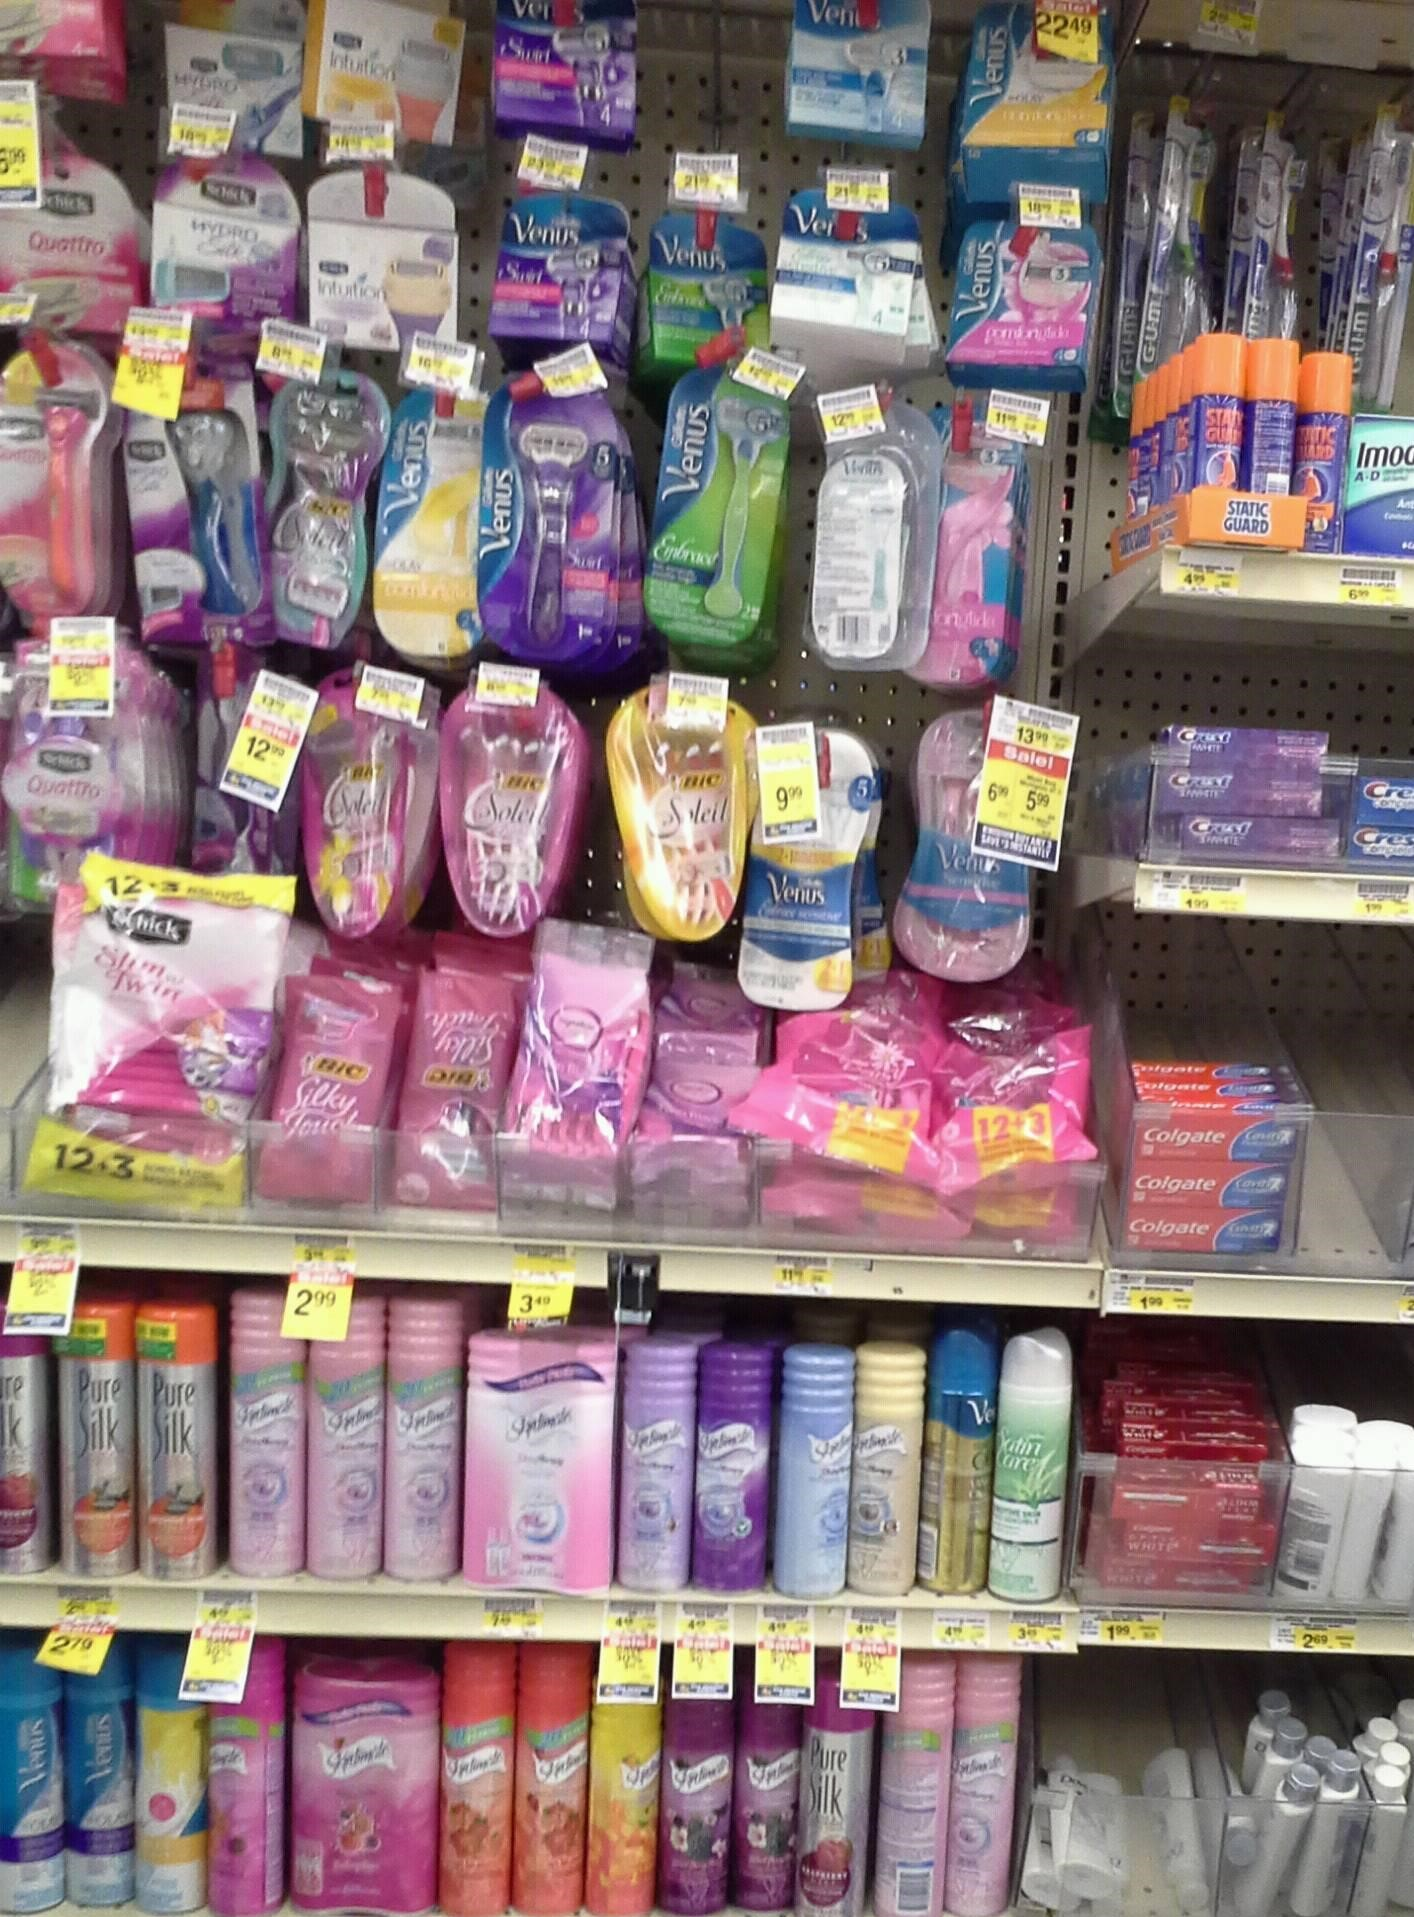empty: (1293, 958, 1404, 1290)
misalignment: (1037, 1668, 1356, 1917), (743, 1008, 1103, 1212)
